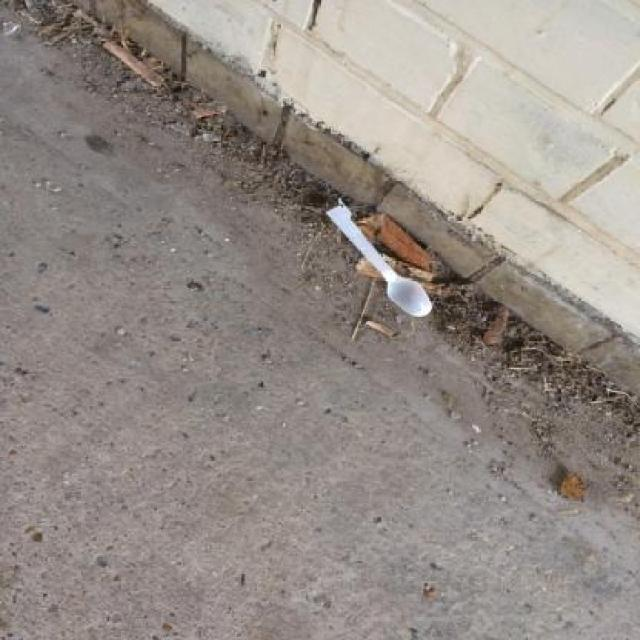plastic: (326, 206, 432, 317)
